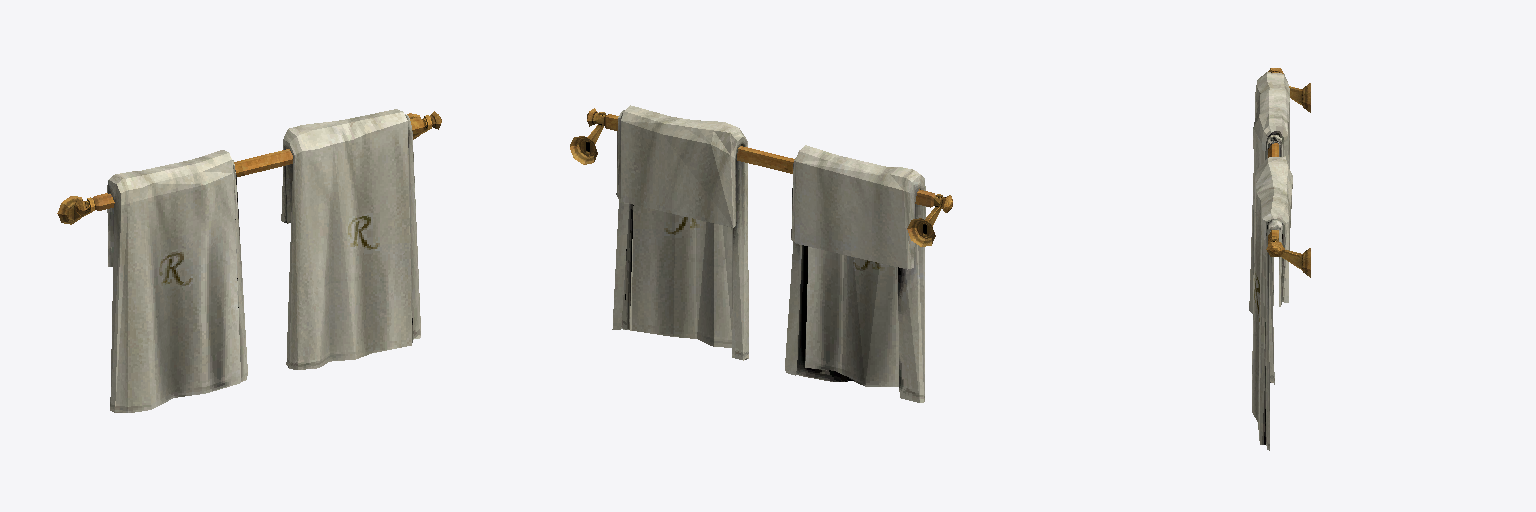
3 renders of one model, left to right at view 1: azimuth 30°, elevation 25°; view 2: azimuth 150°, elevation 25°; view 3: azimuth 270°, elevation 25°, orthographic.
Parts seen in each view (by area): view 1: TowelRack; view 2: TowelRack; view 3: TowelRack.
Boxes of the visible parts, box(x1,y1,x2,y2) form: TowelRack: box(57, 109, 441, 412); TowelRack: box(570, 105, 952, 402); TowelRack: box(1249, 68, 1310, 450).
Size of the model in its own units: 96 by 58.95 by 13.99.
Materials: 1 (1 with a texture image).